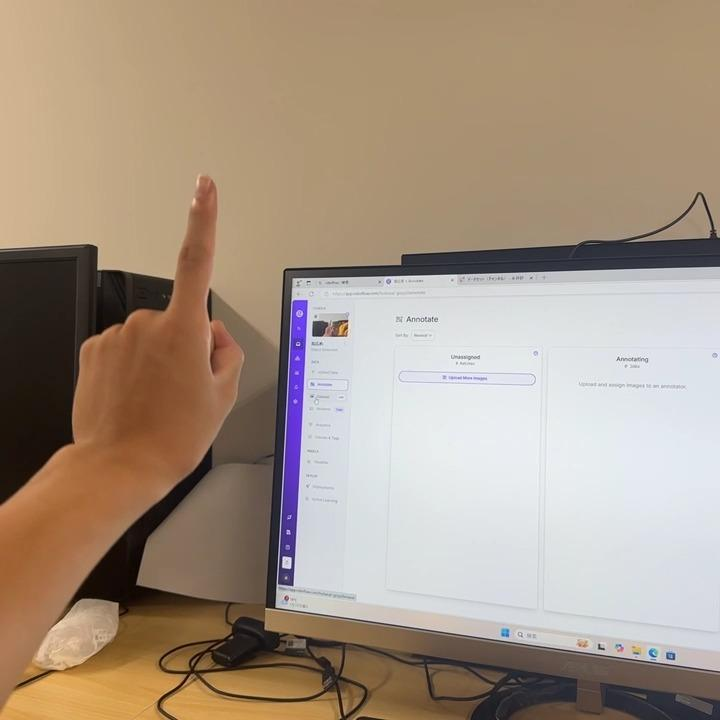without_gloves: (21, 102, 340, 513)
